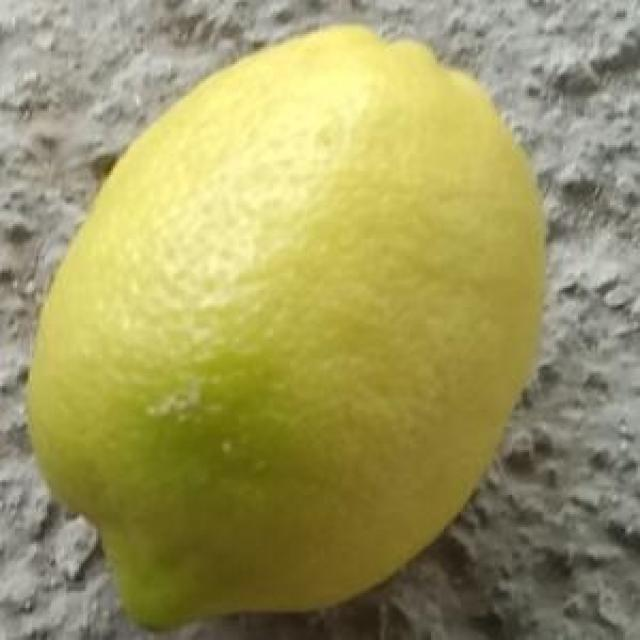lemon: (25, 26, 542, 632)
